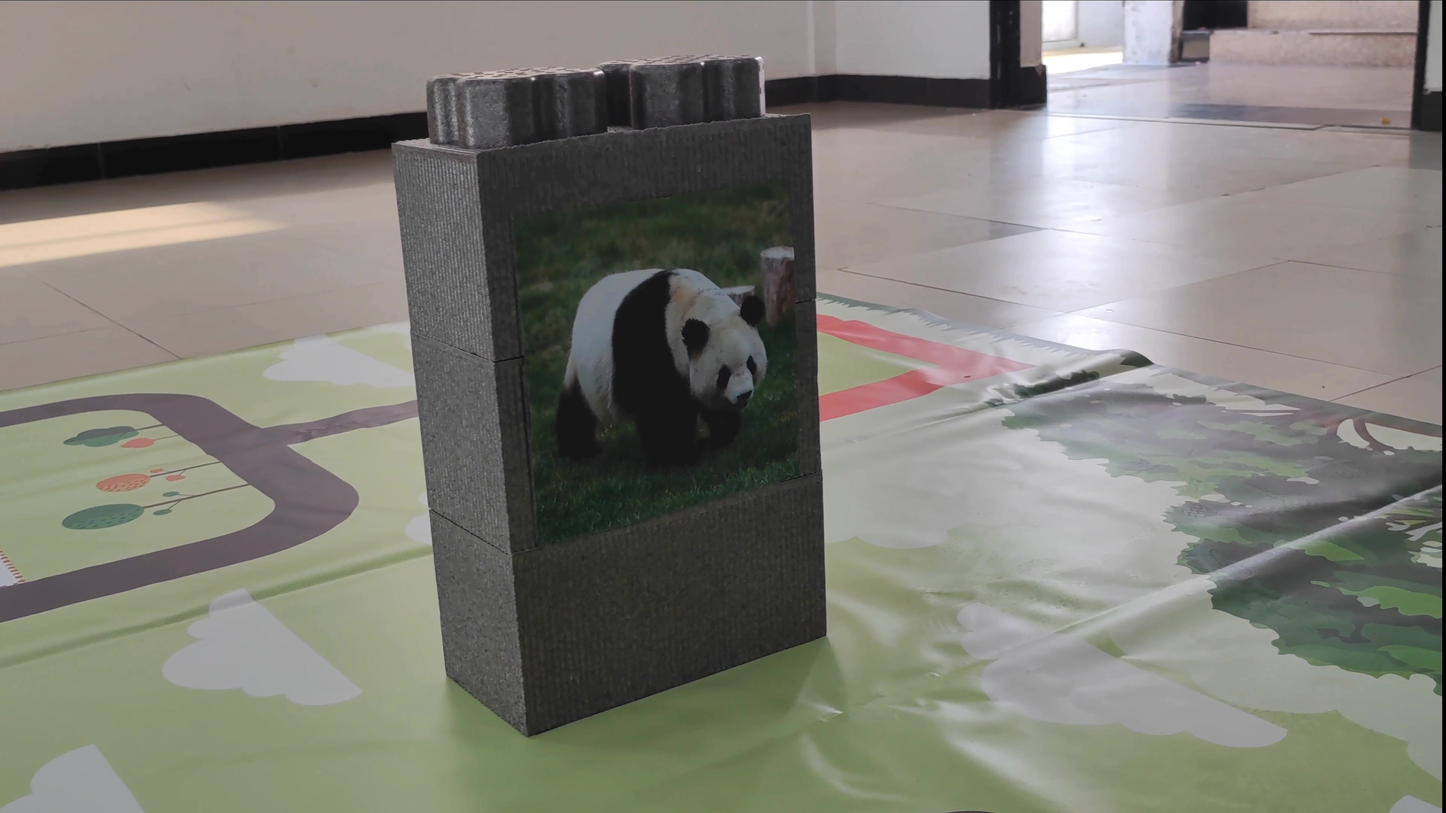panda: (527, 212, 791, 502)
